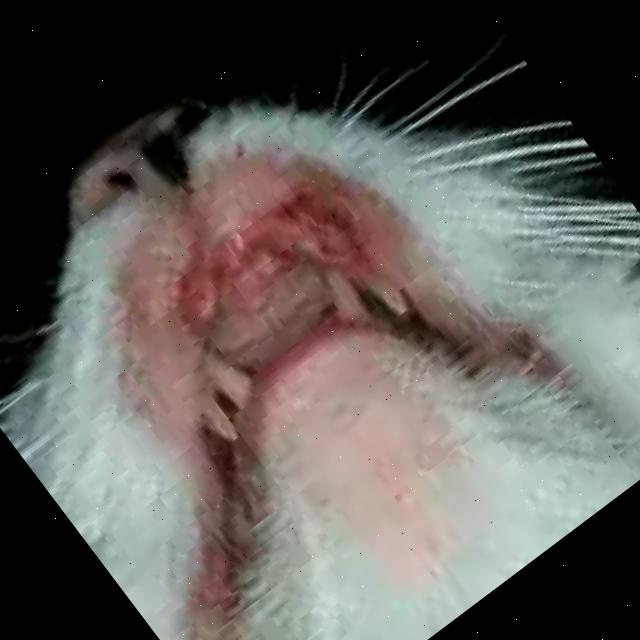cat-lump-and-bump: (88, 110, 388, 388)
